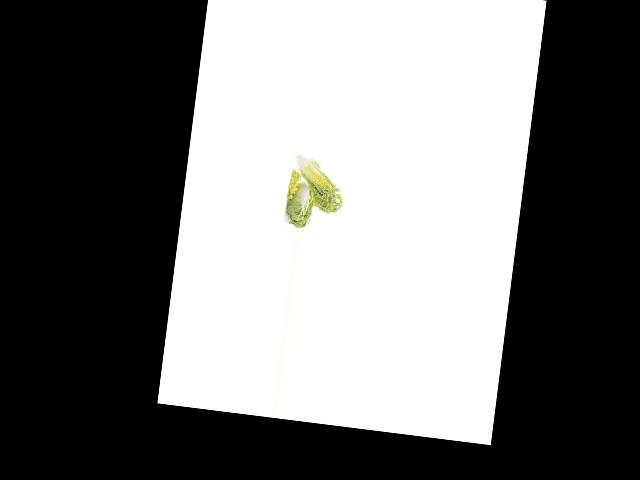lettuce: (281, 174, 318, 228)
